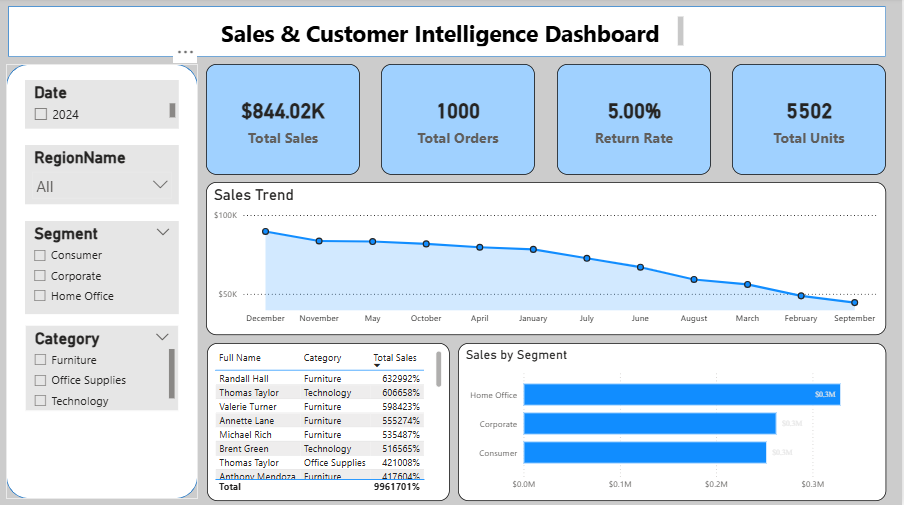

The dashboard page shown, as its layout file describes it:
{"tool":"powerbi","page":{"name":"Sales & Customer Dashboard","canvas":[1280,720],"ordinal":0},"visuals":[{"type":"shape","box":[14.2,11.3,1244.4,72.3],"z":0},{"type":"textbox","box":[283.5,21.3,693.1,52.4],"z":1000},{"type":"shape","box":[11.3,93.5,272.1,616.5],"z":2000},{"type":"slicer","fields":{"Values":["Date_DIm.Date"]},"box":[38.3,116.2,218.3,69.4],"z":3000},{"type":"slicer","fields":{"Values":["Region_Dim.RegionName"]},"box":[38.3,208.3,218.3,83.6],"z":4000},{"type":"slicer","fields":{"Values":["Customer_Dim.Segment"]},"box":[38.3,316.1,218.3,131.8],"z":5000},{"type":"slicer","fields":{"Values":["Product_Dim.Category"]},"box":[38.3,463.5,218.3,121.9],"z":6000},{"type":"card","fields":{"Values":["FactSales.Total Sales"]},"box":[294.8,93.5,218.3,157.3],"z":7000},{"type":"card","fields":{"Values":["FactSales.Total Orders"]},"box":[543.3,93.5,218.3,157.3],"z":8000},{"type":"card","fields":{"Values":["FactReturns.Return Rate"]},"box":[791.8,93.5,218.3,157.3],"z":9000},{"type":"card","fields":{"Values":["FactSales.Total Units"]},"box":[1040.3,93.5,218.3,157.3],"z":10000},{"type":"lineChart","title":"Sales Trend  ","fields":{"Y":["FactSales.Total Sales"],"Category":["Date_DIm.Month"]},"box":[294.8,260.8,963.8,216.9],"z":11000},{"type":"tableEx","title":"Sales by CustomerID","fields":{"Values":["Customer_Dim.Full Name","Product_Dim.Category","FactSales.Total Sales"]},"box":[296.2,489,344.4,223.9],"z":12000},{"type":"barChart","title":"Sales by Segment","fields":{"Category":["Customer_Dim.Segment"],"Y":["FactSales.Total Sales"]},"box":[652,489,606.6,223.9],"z":13000}]}

Visuals, with their boxes in screenshot pixels (x1, y1, x2, y2), scaled from the page's 1280x720 canvas onto the 904x505 screenshot:
shape: (left=10, top=8, right=889, bottom=59)
textbox: (left=200, top=15, right=690, bottom=52)
shape: (left=8, top=66, right=200, bottom=498)
slicer - Date_DIm.Date: (left=27, top=82, right=181, bottom=130)
slicer - Region_Dim.RegionName: (left=27, top=146, right=181, bottom=205)
slicer - Customer_Dim.Segment: (left=27, top=222, right=181, bottom=314)
slicer - Product_Dim.Category: (left=27, top=325, right=181, bottom=411)
card - FactSales.Total Sales: (left=208, top=66, right=362, bottom=176)
card - FactSales.Total Orders: (left=384, top=66, right=538, bottom=176)
card - FactReturns.Return Rate: (left=559, top=66, right=713, bottom=176)
card - FactSales.Total Units: (left=735, top=66, right=889, bottom=176)
"Sales Trend  " lineChart: (left=208, top=183, right=889, bottom=335)
"Sales by CustomerID" tableEx: (left=209, top=343, right=452, bottom=500)
"Sales by Segment" barChart: (left=460, top=343, right=889, bottom=500)
